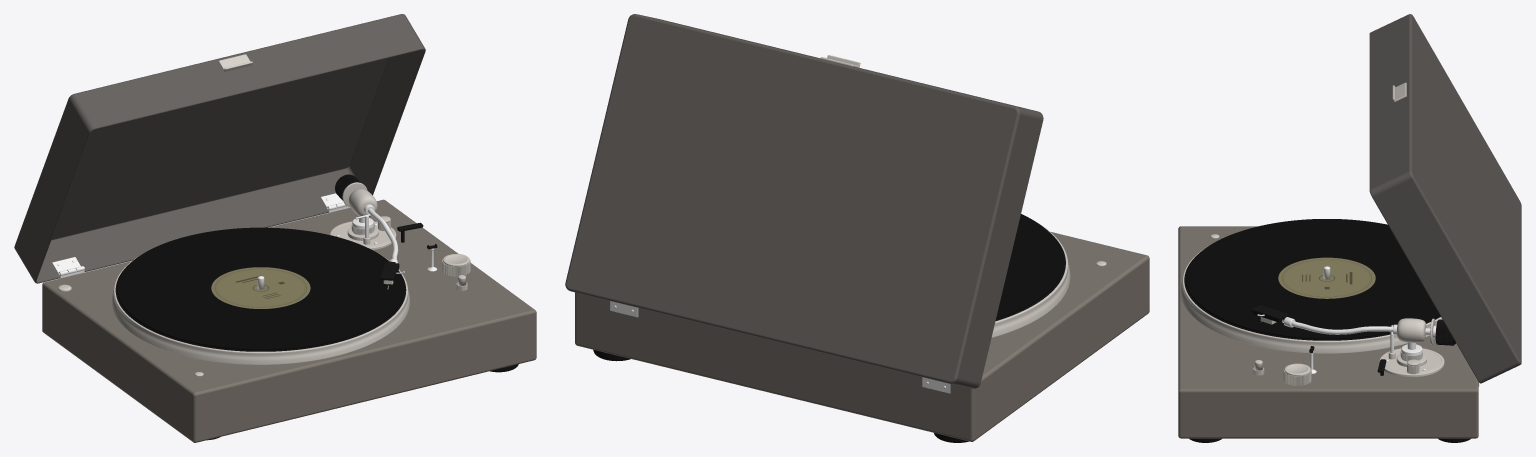
Rendered from party.glb.
The picture shows the model from 3 angles, left to right: view 1: azimuth 30°, elevation 25°; view 2: azimuth 150°, elevation 25°; view 3: azimuth 270°, elevation 25°; orthographic projection. The views are drawn at different scales.
Parts seen in each view (by area): view 1: lid_tt_lid, body_tt_brushed_steel, record_vinyl_mesh, platter_mesh, record_label_mesh, body_tt_aluminium, rubber_mat_mesh, record_edge_mesh, gimbal_housing_mesh; view 2: lid_tt_lid, body_tt_brushed_steel, record_vinyl_mesh, platter_mesh, body_tt_chrome_1; view 3: lid_tt_lid, body_tt_brushed_steel, record_vinyl_mesh, platter_mesh, record_label_mesh, body_tt_aluminium, gimbal_housing_mesh, arm_tube_mesh, record_edge_mesh, rubber_mat_mesh, arm_tt_black_anodised, arm_tt_black_anodised_1 (+1 smaller).
Part boxes in pixels (left/top/right/bottom): lid_tt_lid: left=14, top=14, right=425, bottom=283; body_tt_brushed_steel: left=42, top=199, right=536, bottom=442; record_vinyl_mesh: left=117, top=227, right=403, bottom=348; platter_mesh: left=112, top=254, right=409, bottom=364; record_label_mesh: left=211, top=267, right=310, bottom=308; body_tt_aluminium: left=58, top=216, right=470, bottom=376; rubber_mat_mesh: left=115, top=265, right=406, bottom=351; record_edge_mesh: left=117, top=227, right=404, bottom=350; gimbal_housing_mesh: left=348, top=189, right=377, bottom=217; lid_tt_lid: left=565, top=14, right=1043, bottom=388; body_tt_brushed_steel: left=575, top=232, right=1149, bottom=441; record_vinyl_mesh: left=996, top=214, right=1063, bottom=316; platter_mesh: left=991, top=222, right=1070, bottom=337; body_tt_chrome_1: left=610, top=301, right=950, bottom=393; lid_tt_lid: left=1369, top=14, right=1521, bottom=383; body_tt_brushed_steel: left=1178, top=226, right=1478, bottom=438; record_vinyl_mesh: left=1186, top=219, right=1438, bottom=337; platter_mesh: left=1180, top=245, right=1442, bottom=353; record_label_mesh: left=1278, top=257, right=1375, bottom=298; body_tt_aluminium: left=1210, top=234, right=1444, bottom=385; gimbal_housing_mesh: left=1397, top=318, right=1426, bottom=342; arm_tube_mesh: left=1291, top=321, right=1392, bottom=334; record_edge_mesh: left=1186, top=219, right=1439, bottom=339; rubber_mat_mesh: left=1184, top=255, right=1440, bottom=340; arm_tt_black_anodised: left=1435, top=319, right=1455, bottom=345; arm_tt_black_anodised_1: left=1251, top=305, right=1287, bottom=322.
Size of what is drawn, in the model's own units: 2.14 by 1.59 by 1.85.
Materials: 10 (1 with a texture image).
